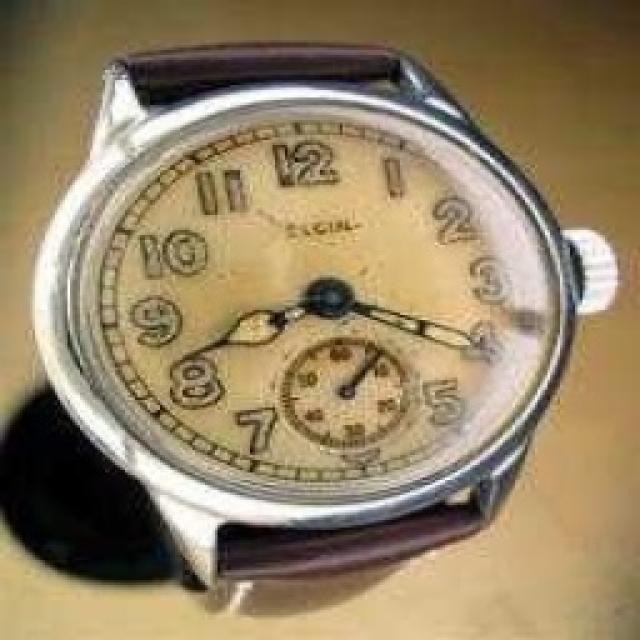saat: (27, 31, 627, 640)
